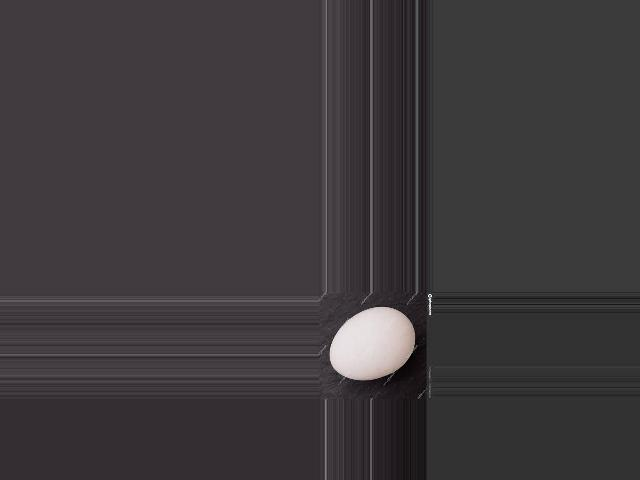egg: (330, 307, 415, 380)
